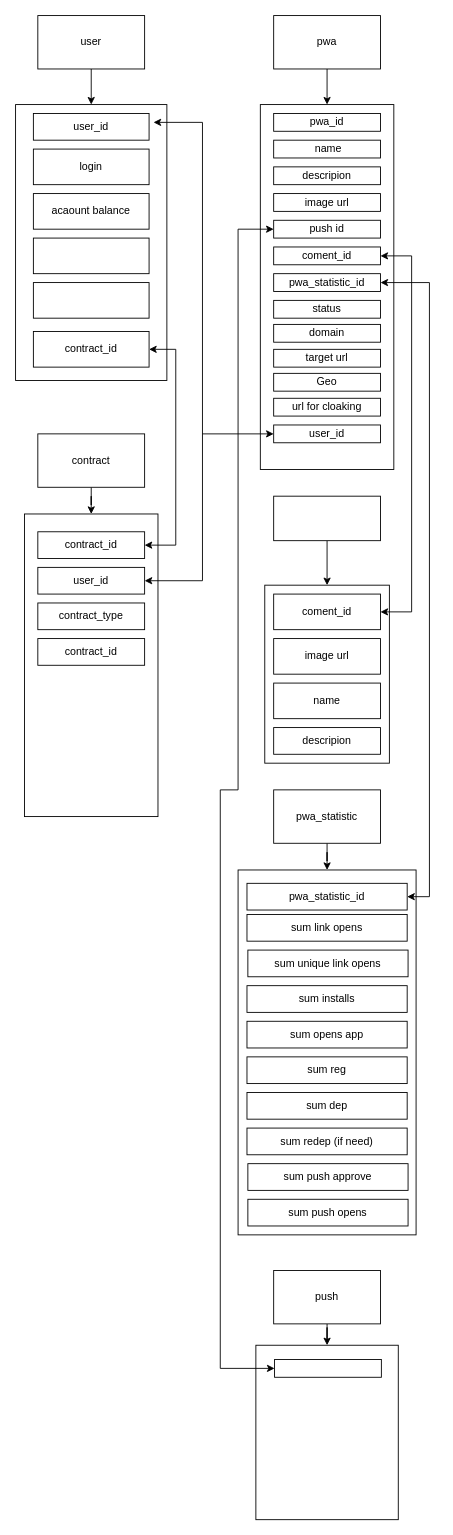
Image size: 453x1535. Some labels were removed from this diagram. The centre of each missing label's shape, as x and y in pixels:
"push_id" goes at (x=327, y=1368).
"pwa coments" goes at (x=326, y=518).
